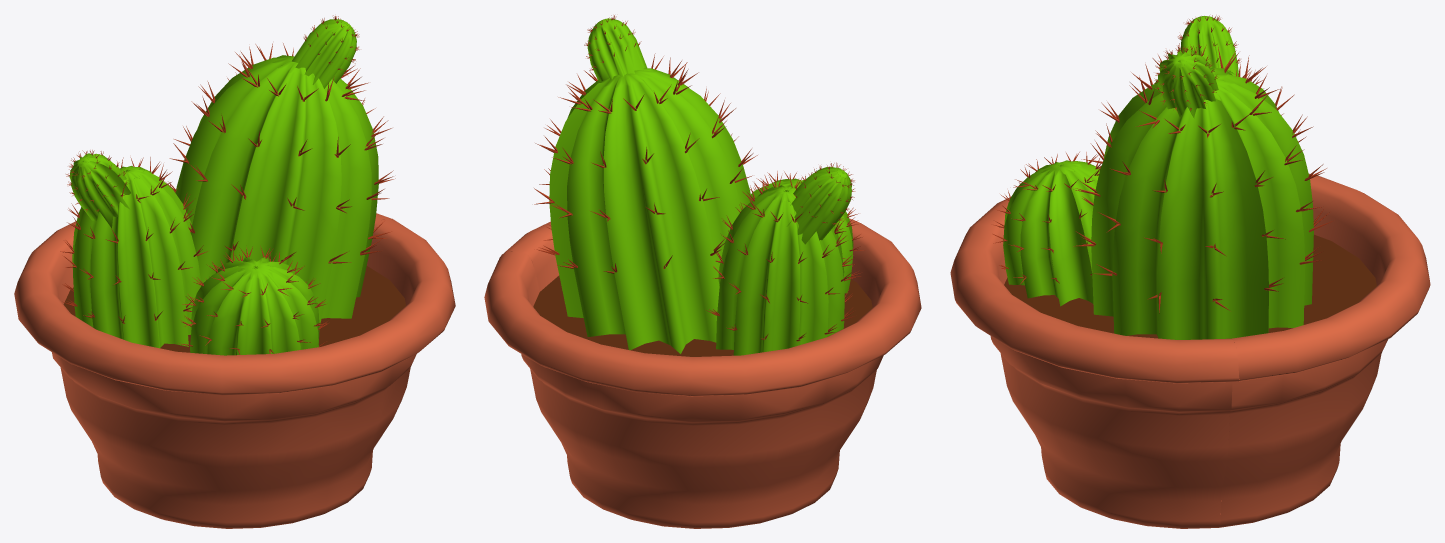
Rendered from cactus-plant-in-pot-low-poly-c7d5e3.glb.
3 renders of one model, left to right at view 1: azimuth 30°, elevation 25°; view 2: azimuth 150°, elevation 25°; view 3: azimuth 270°, elevation 25°, orthographic. The views are drawn at different scales.
Visible parts, largest first — view 1: PropMesh; view 2: PropMesh; view 3: PropMesh.
Boxes of the visible parts, <box> form: PropMesh: <box>14,15,455,528</box>; PropMesh: <box>484,15,921,528</box>; PropMesh: <box>950,15,1430,528</box>.
Bounding box in the file's own units: 0.5539 × 0.606 × 0.5539.
